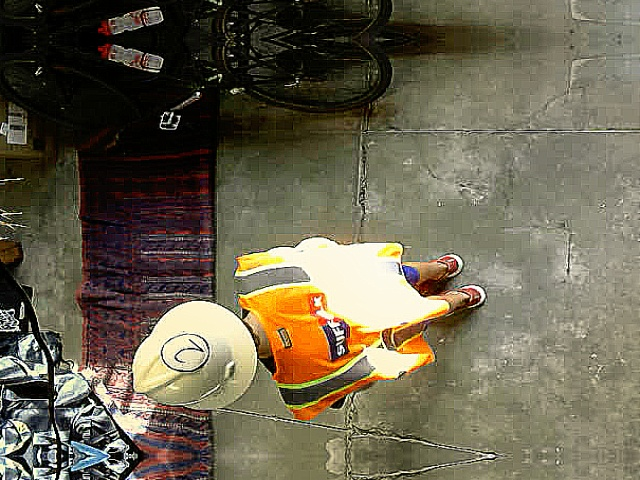two: (158, 331, 208, 371)
